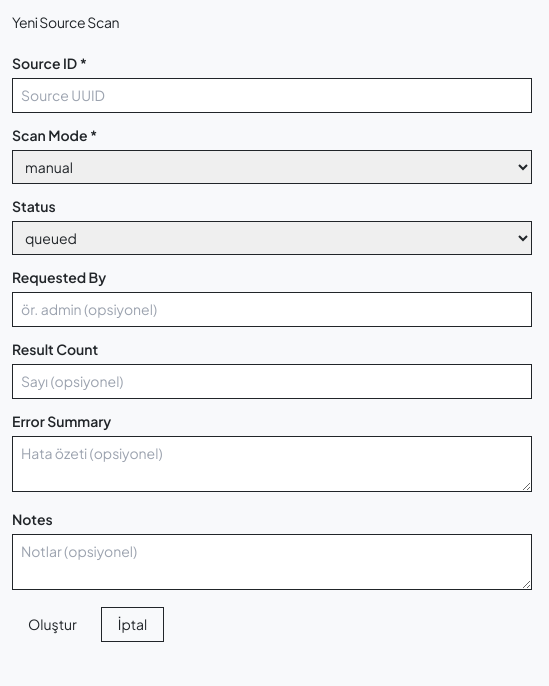
Scenario: SourceScan form smoke tests › shows source_id required error on empty submit
The image size is (549, 686).
Click the button "Oluştur": (52,624) left=12, top=607, right=93, bottom=642
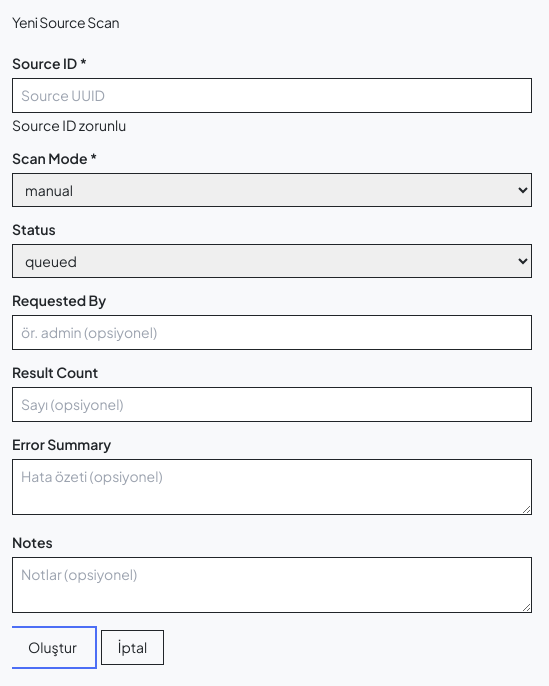
Check: the text "Source ID zorunlu" is shown, box left=12, top=116, right=126, bottom=134
